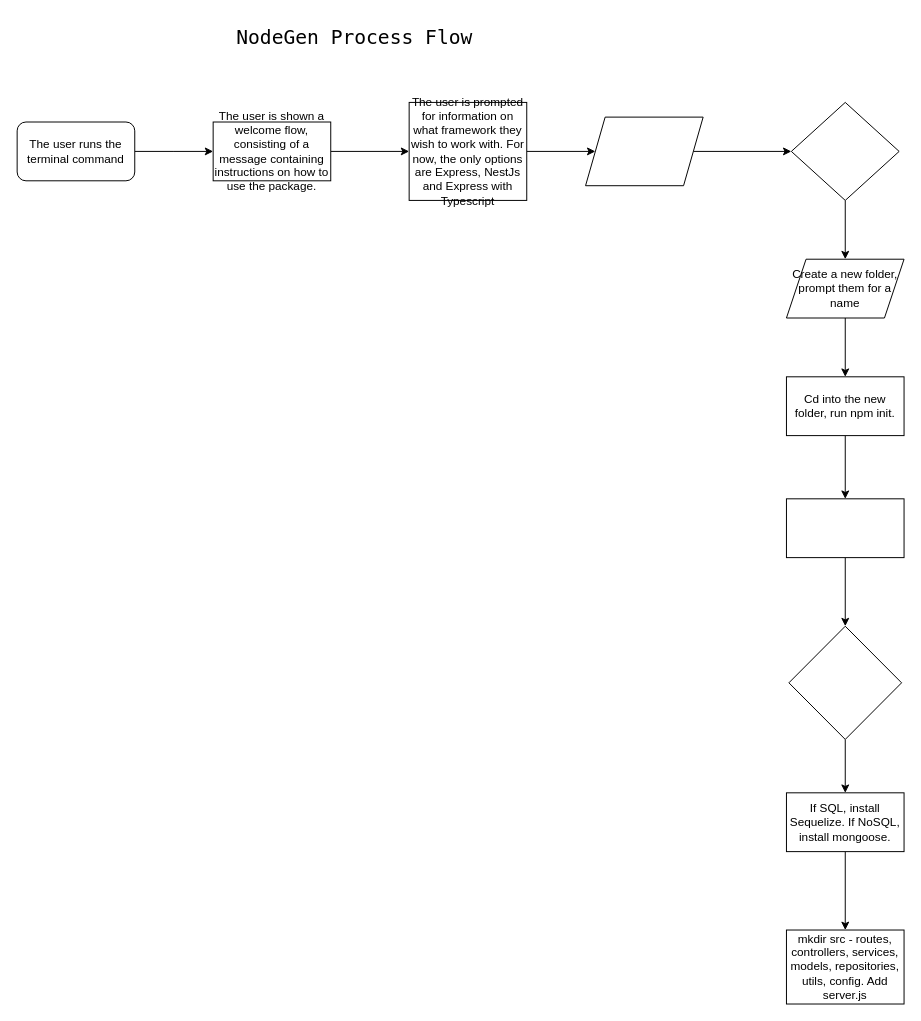
Image size: 921x1021. Some labels were removed from this diagram. Each missing label, with the centre of its shape:
"Ask whether they'd prefer to work with SQL or NoSQL databases." belongs at (x=845, y=682).
"Did the user choose ExpressJS?" belongs at (x=844, y=150).
"npm install body-parser cors morgan helmet express bcrypt winston" belongs at (x=844, y=528).
"The user is asked to make a choice for framework." belongs at (x=644, y=151).
